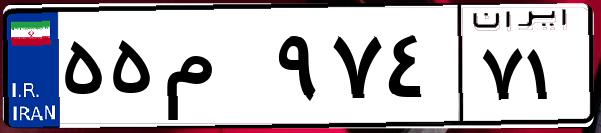1: (525, 38, 570, 115)
4: (385, 28, 445, 110)
5: (57, 26, 110, 100), (110, 28, 158, 98)
7: (330, 28, 385, 110), (475, 38, 525, 113)
9: (270, 28, 330, 110)
م: (158, 20, 270, 120)
